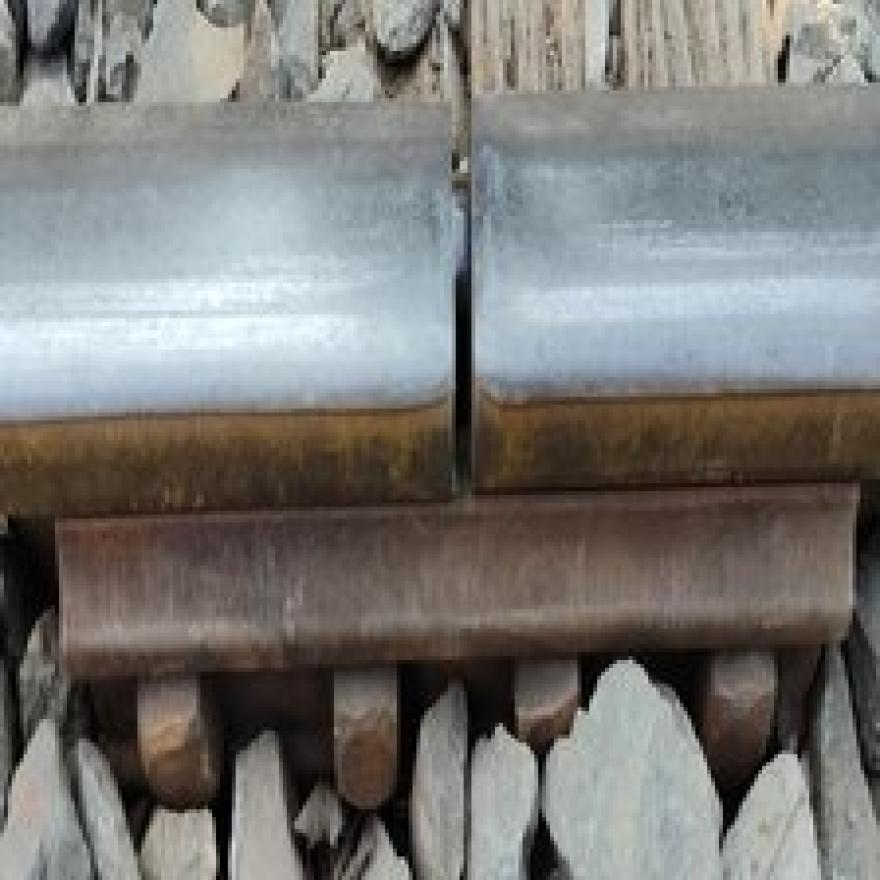railway-gap: (161, 0, 763, 567)
